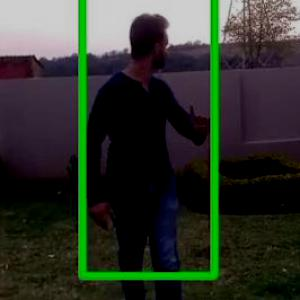takeoff-hand: (186, 103, 222, 142)
